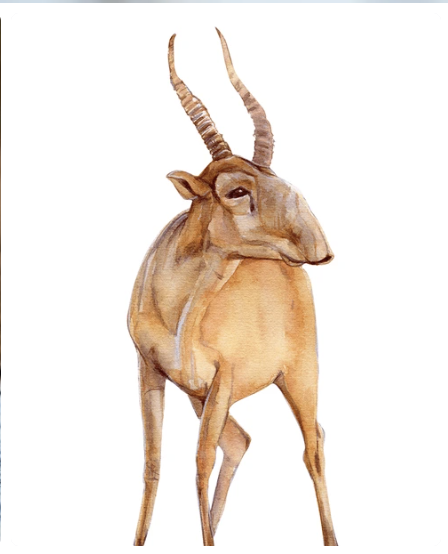saiga: (125, 25, 341, 551)
